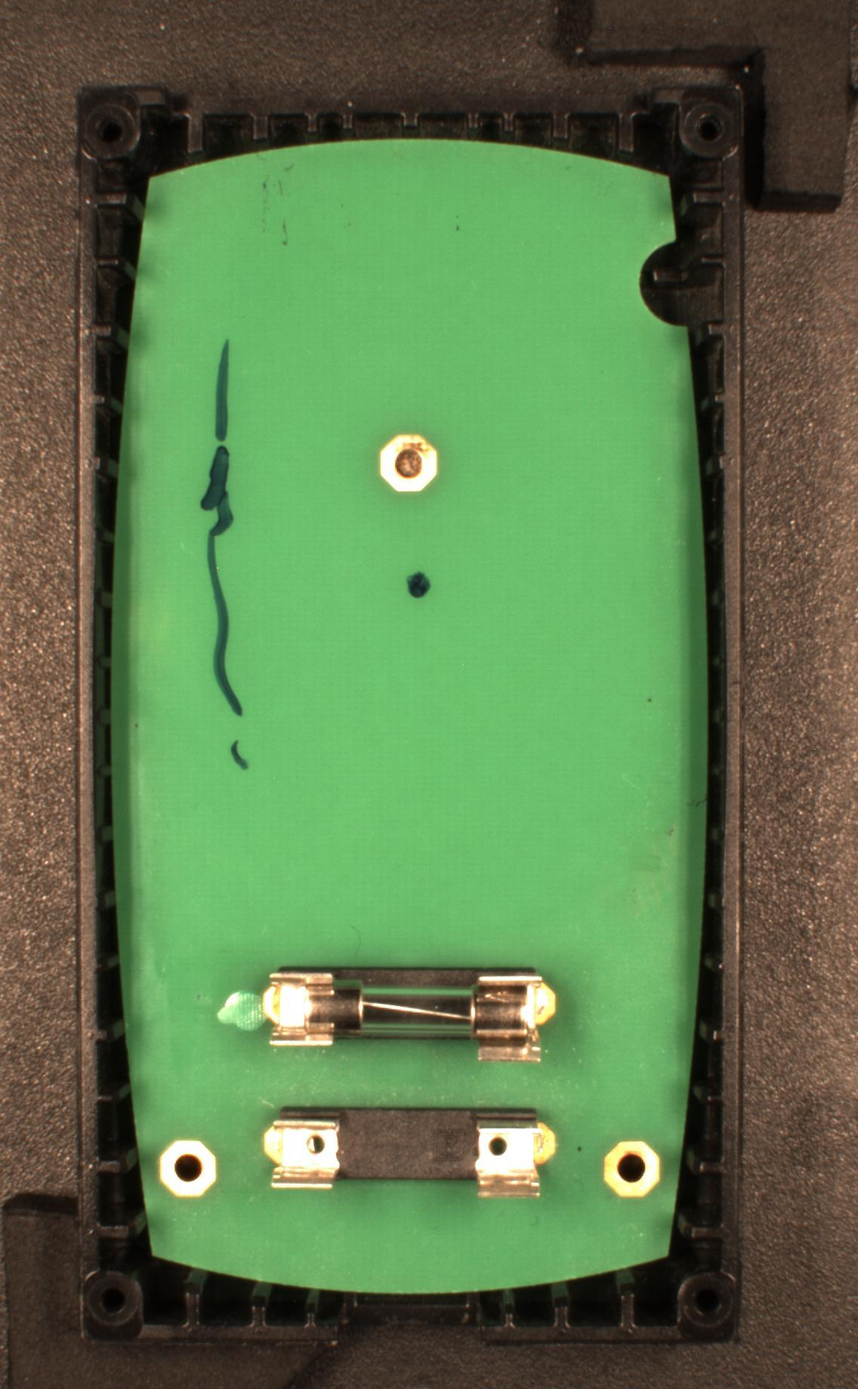Linijsko Ostecene: (198, 338, 251, 772)
Nepostojanje osiguraca: (262, 1103, 557, 1199)
Tockasto Ostecenje: (403, 570, 434, 600)
